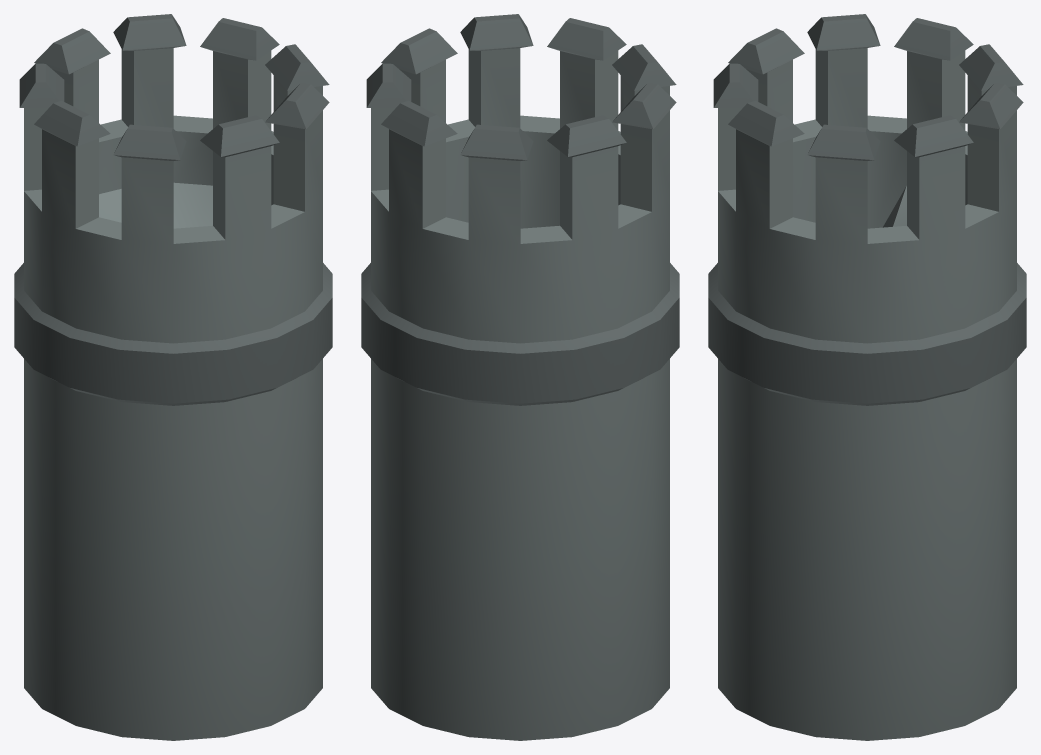
File: castle1.fbx
The picture shows the model from 3 angles, left to right: view 1: azimuth 30°, elevation 25°; view 2: azimuth 150°, elevation 25°; view 3: azimuth 270°, elevation 25°; orthographic projection.
Parts seen in each view (by area): view 1: castle1; view 2: castle1; view 3: castle1.
Boxes of the visible parts, x1,y1,x2,y2 form: castle1: (14,14,332,740); castle1: (361,14,679,740); castle1: (708,14,1026,740).
Size of the model in its own units: 178 by 367 by 175.
